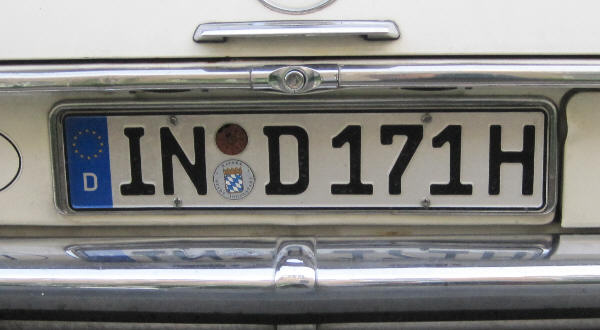license_plate: (59, 107, 550, 210)
